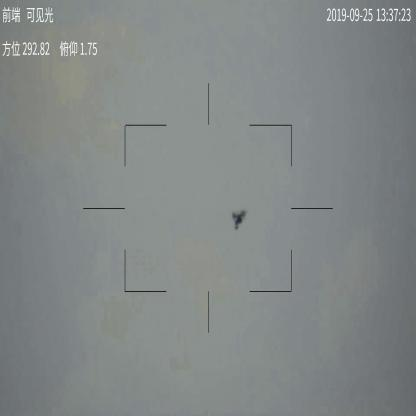uav: (232, 208, 248, 234)
